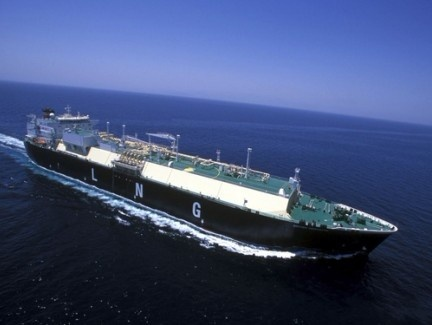Cargoship: (24, 103, 400, 258)
